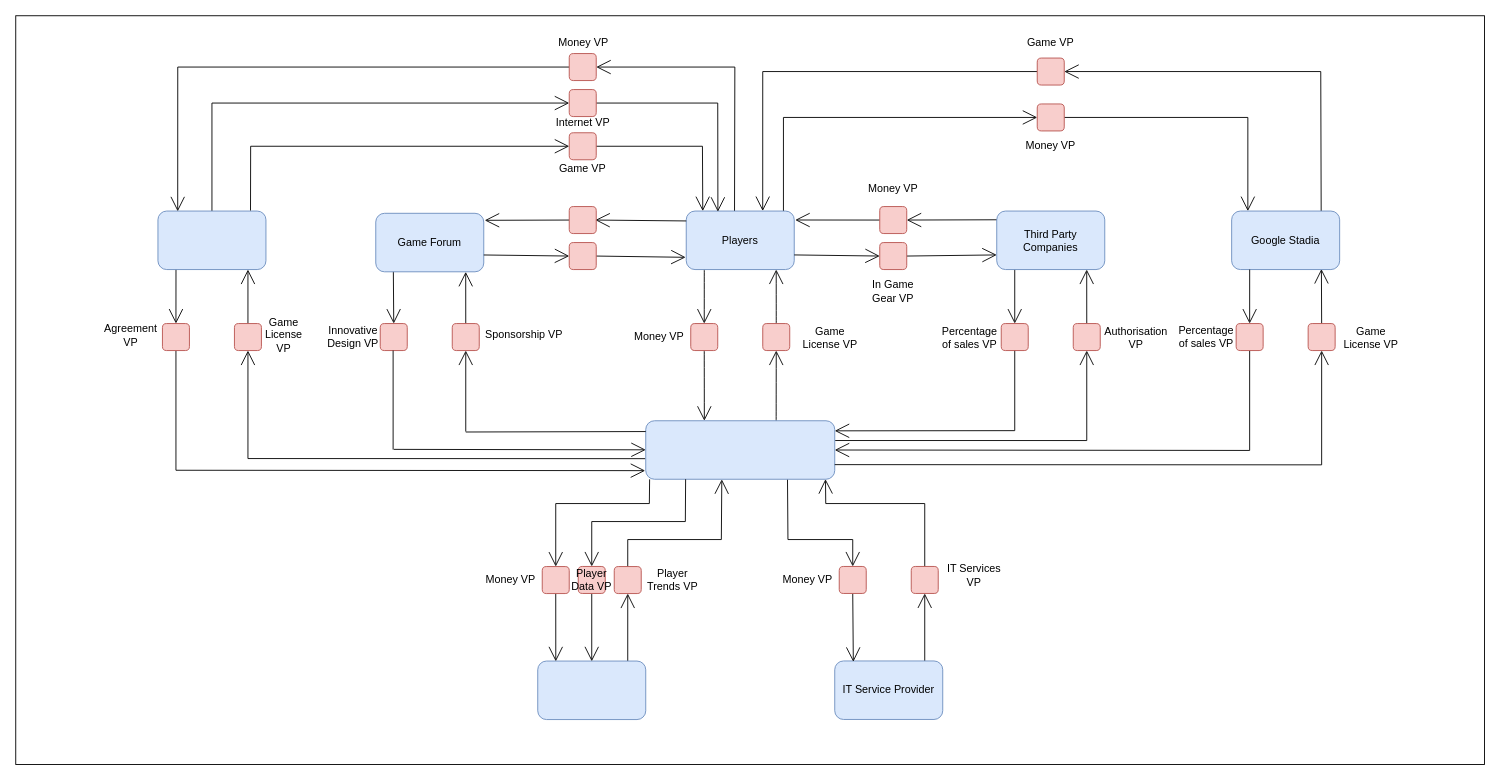
The diagram is 1500 pixels wide and 780 high, and some of its shapes have lost their labels. Each missing label, with the centre of its shape:
Data Mining Firm: point 591,690
ISPs: point 211,240
SU Interactive: point 740,449
